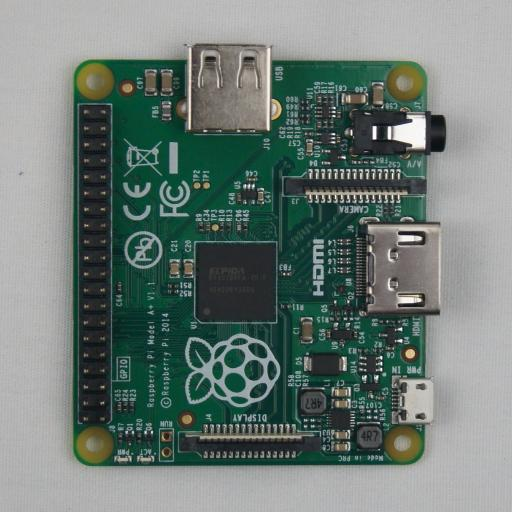Raspberry Pi A-: (72, 44, 446, 466)
